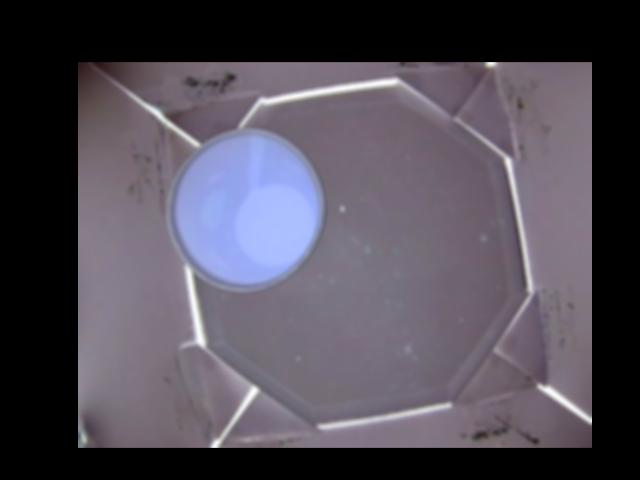Cup: (164, 128, 324, 291)
